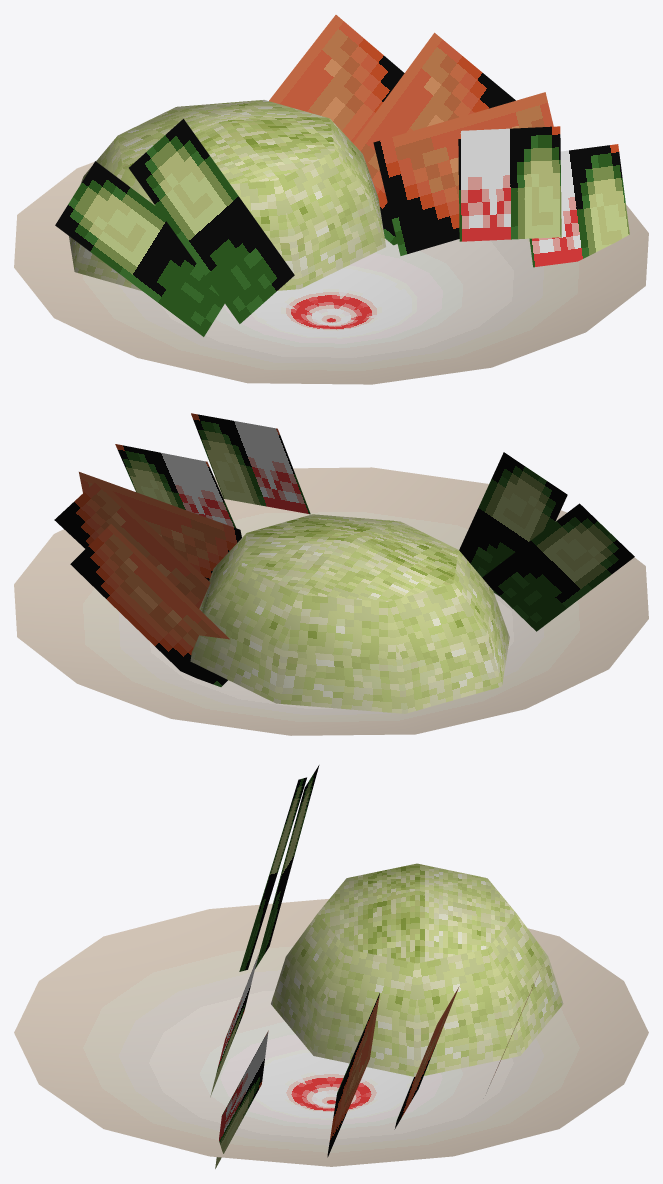
3 views of the same model, one above another, from view 1: azimuth 30°, elevation 25°; view 2: azimuth 150°, elevation 25°; view 3: azimuth 270°, elevation 25° (orthographic).
Parts seen in each view (by area): view 1: ricecroque; view 2: ricecroque; view 3: ricecroque.
Part boxes in pixels (<box>): ricecroque: <box>14,15,648,384</box>; ricecroque: <box>14,413,648,735</box>; ricecroque: <box>14,765,648,1168</box>.
Size of the model in its own units: 0.8921 by 0.3767 by 0.8726.
3 materials, 3 textured.
